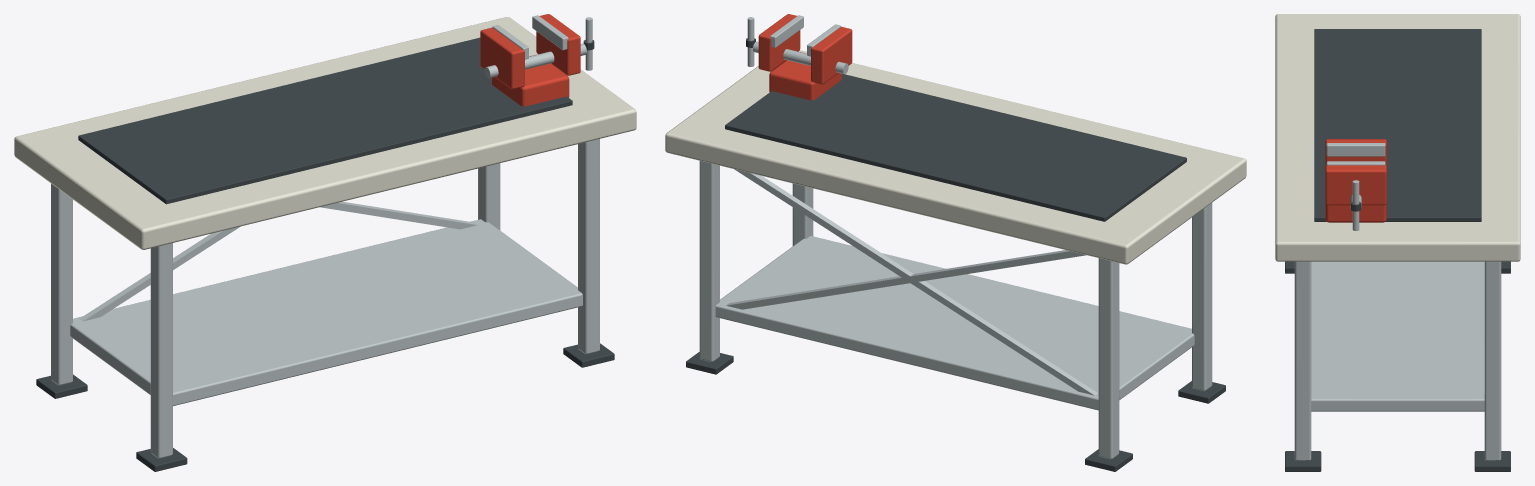
File: broadcast-tower-and-relay-station-broadcast-tower-and--3fd278a7__30266.glb
The picture shows the model from 3 angles, left to right: view 1: azimuth 30°, elevation 25°; view 2: azimuth 150°, elevation 25°; view 3: azimuth 270°, elevation 25°; orthographic projection. The views are drawn at different scales.
Parts seen in each view (by area): view 1: broadcast-tower-and-relay-station-equipment-service-bench; view 2: broadcast-tower-and-relay-station-equipment-service-bench; view 3: broadcast-tower-and-relay-station-equipment-service-bench.
Part boxes in pixels (x1,y1,x2,y2): broadcast-tower-and-relay-station-equipment-service-bench: [14, 14, 636, 471]; broadcast-tower-and-relay-station-equipment-service-bench: [665, 14, 1246, 471]; broadcast-tower-and-relay-station-equipment-service-bench: [1275, 14, 1520, 471].
Size of the model in its own units: 1.95 by 1.17 by 0.8799.
